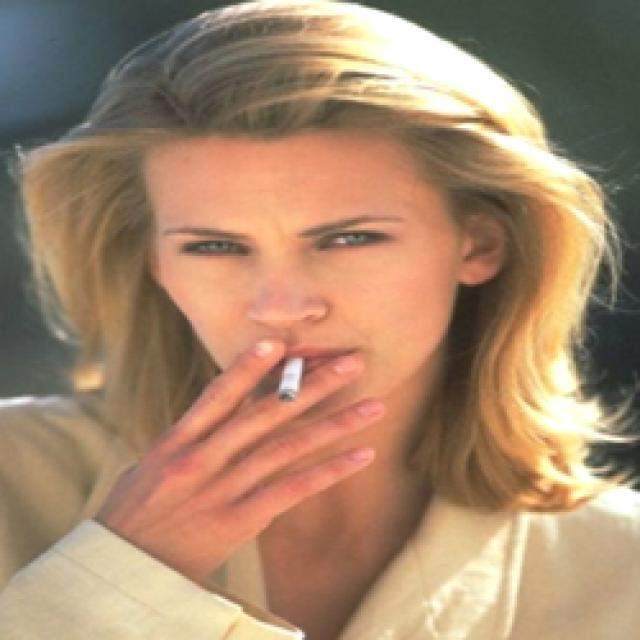Smooking: (272, 343, 322, 407)
